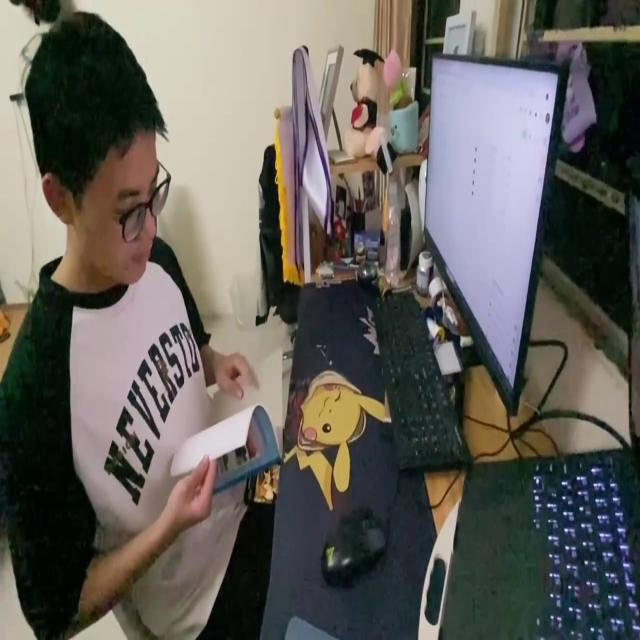book: (168, 340, 285, 493)
laptop: (421, 47, 573, 420), (433, 442, 640, 640)
student: (0, 9, 273, 639)
